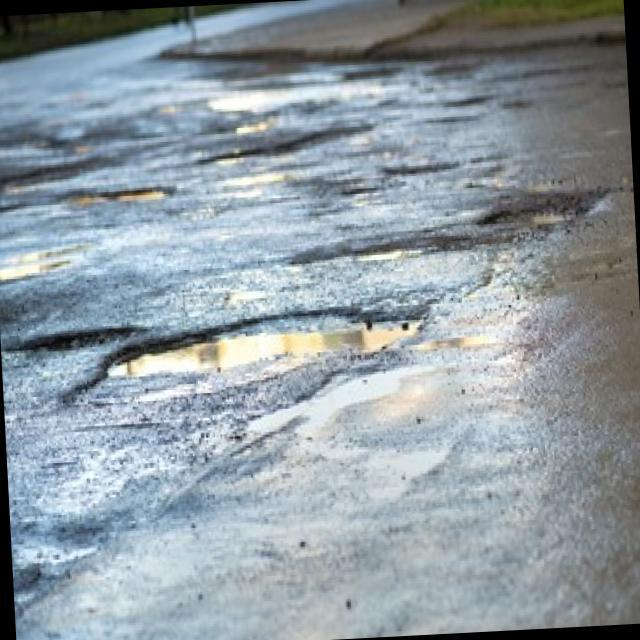Pothole: (98, 302, 431, 381), (4, 324, 140, 356), (479, 204, 589, 232), (62, 186, 174, 207), (338, 185, 376, 198)
